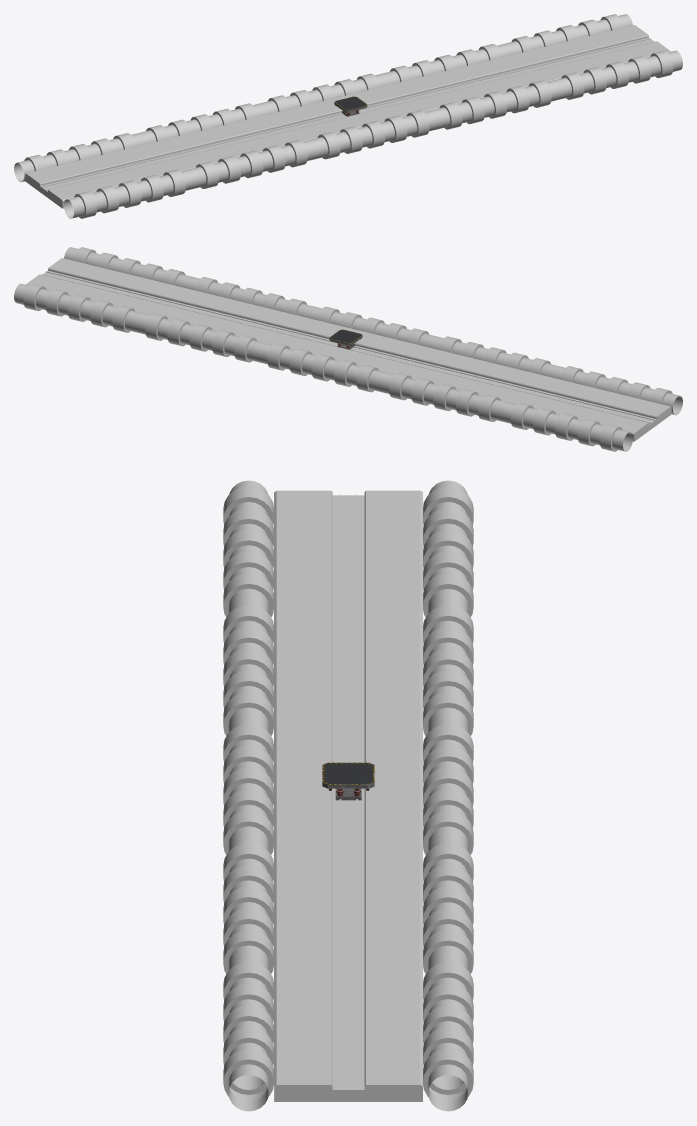
Rendered from stage2.fbx.
3 views of the same model, one above another, from view 1: azimuth 30°, elevation 25°; view 2: azimuth 150°, elevation 25°; view 3: azimuth 270°, elevation 25° (orthographic). The views are drawn at different scales.
Parts seen in each view (by area): view 1: foundation; view 2: foundation; view 3: foundation, stage_tail.
Boxes of the visible parts, x1,y1,x2,y2 form: foundation: (14, 14, 682, 218); foundation: (14, 247, 682, 451); foundation: (223, 480, 473, 1111); stage_tail: (324, 763, 372, 783).
Bounding box in the file's own units: 16.13 × 0.6067 × 2.87.
